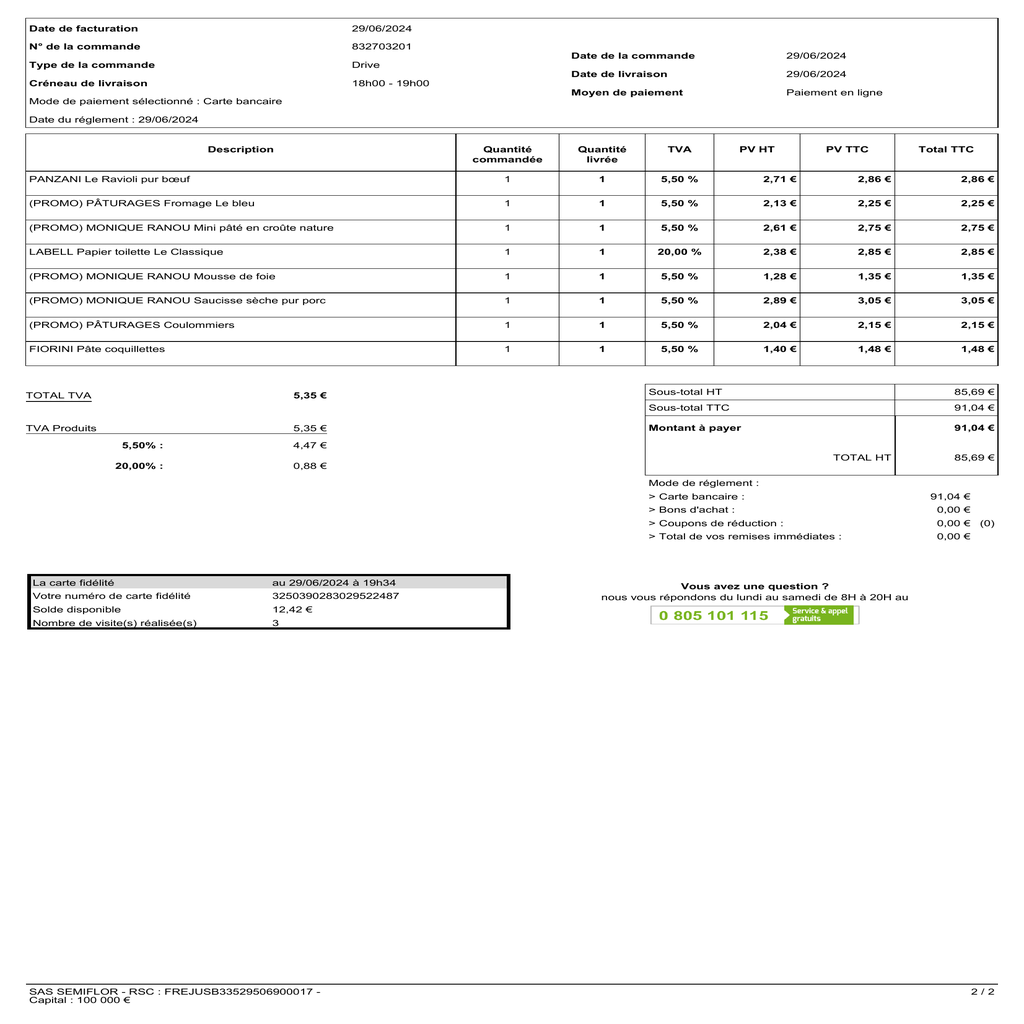recipt: (4, 0, 1022, 1016)
